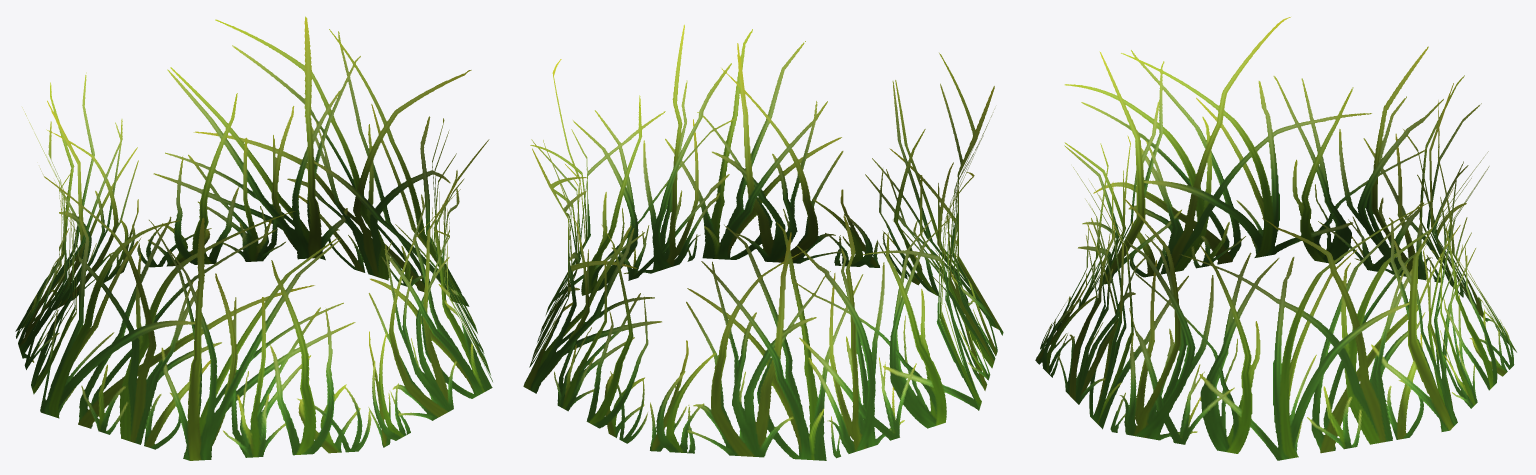
File: Grass01.FBX
3 renders of one model, left to right at view 1: azimuth 30°, elevation 25°; view 2: azimuth 150°, elevation 25°; view 3: azimuth 270°, elevation 25°, orthographic.
Parts seen in each view (by area): view 1: Grass01; view 2: Grass01; view 3: Grass01.
Part boxes in pixels (<box>): Grass01: <box>15,16,492,460</box>; Grass01: <box>523,24,1003,460</box>; Grass01: <box>1035,17,1516,460</box>.
Bounding box in the file's own units: 10.69 × 5.79 × 10.69.
